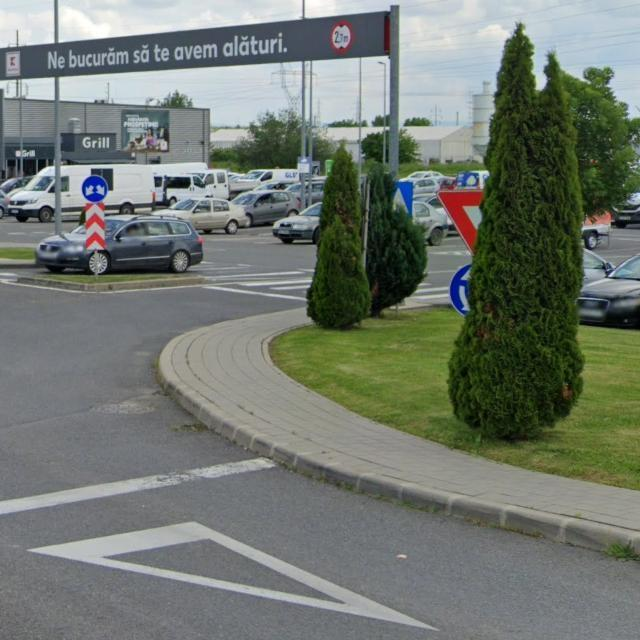prio_give_way: (436, 190, 485, 257)
